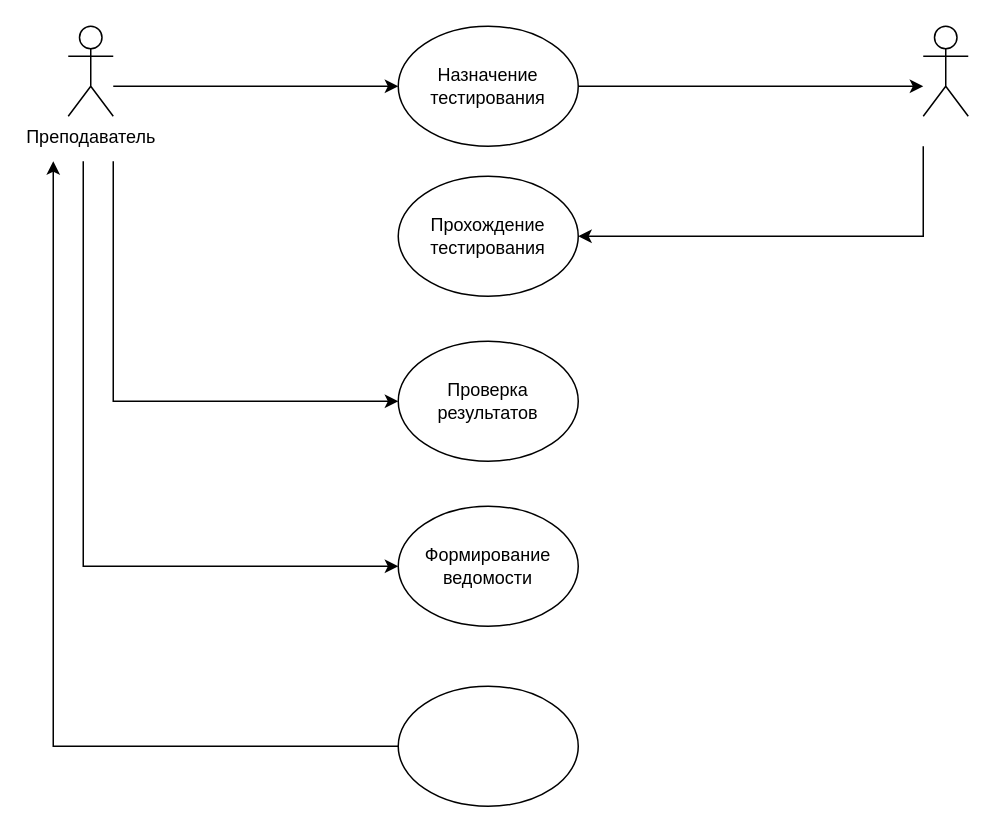
This 1005x833 diagram has some shape labels left out. Here are the shapes that lost their labels. From the top down, the centre of each, then its label:
At point (945, 70): "Студент".
At point (487, 745): "Отправка ведомости преподавателю".
